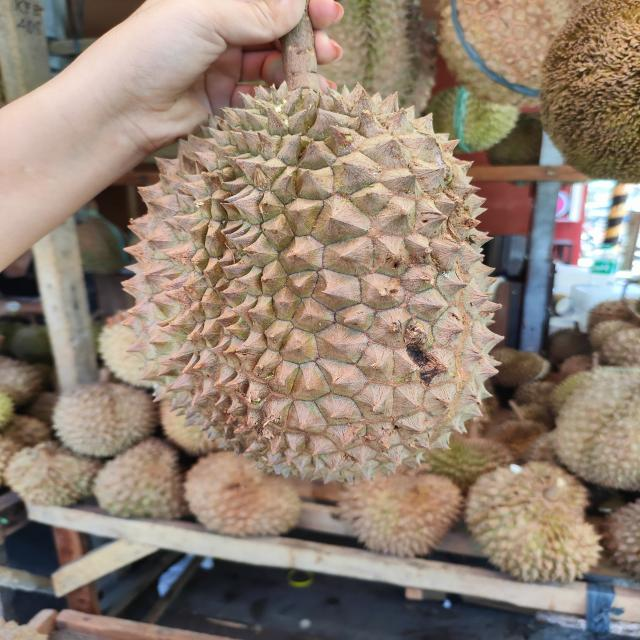mature: (111, 71, 506, 486)
